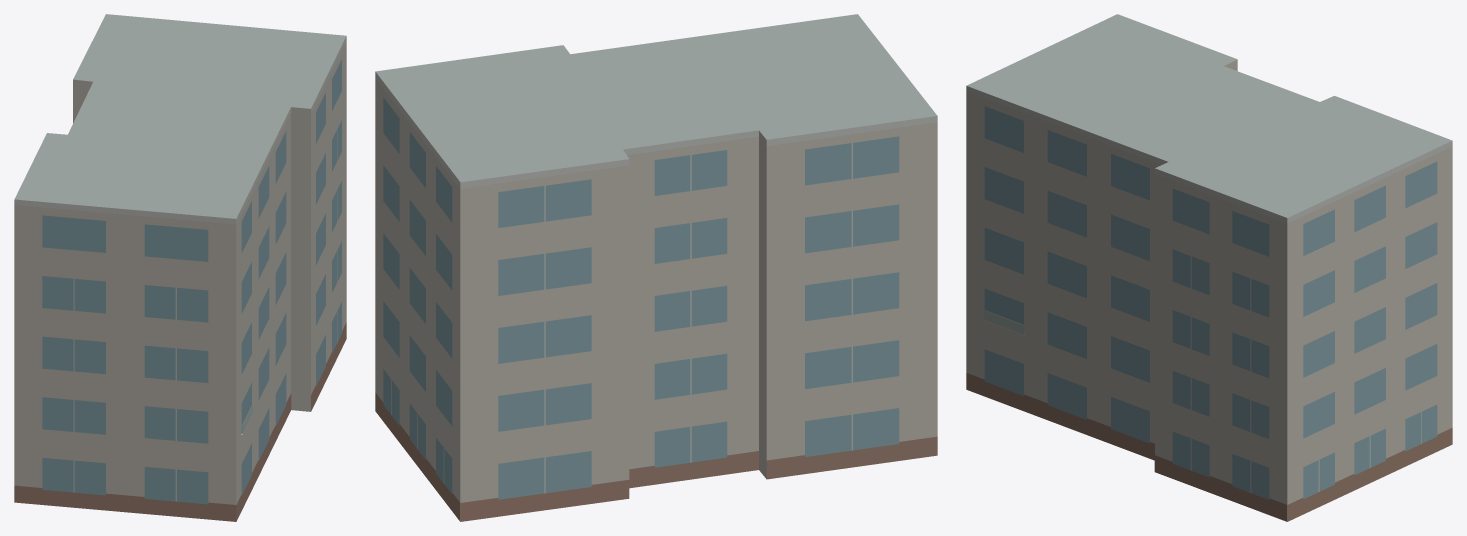
The model's file is survey-upis-32661935.glb.
The picture shows the model from 3 angles, left to right: view 1: azimuth 30°, elevation 25°; view 2: azimuth 150°, elevation 25°; view 3: azimuth 270°, elevation 25°; orthographic projection. The views are drawn at different scales.
Visible parts, largest first — view 1: survey-upis-32661935.tmp; view 2: survey-upis-32661935.tmp; view 3: survey-upis-32661935.tmp.
Part boxes in pixels (x1,y1,x2,y2): survey-upis-32661935.tmp: [14, 14, 346, 521]; survey-upis-32661935.tmp: [375, 14, 937, 521]; survey-upis-32661935.tmp: [966, 14, 1452, 521].
Bounding box in the file's own units: 19.09 × 13.25 × 19.23.
